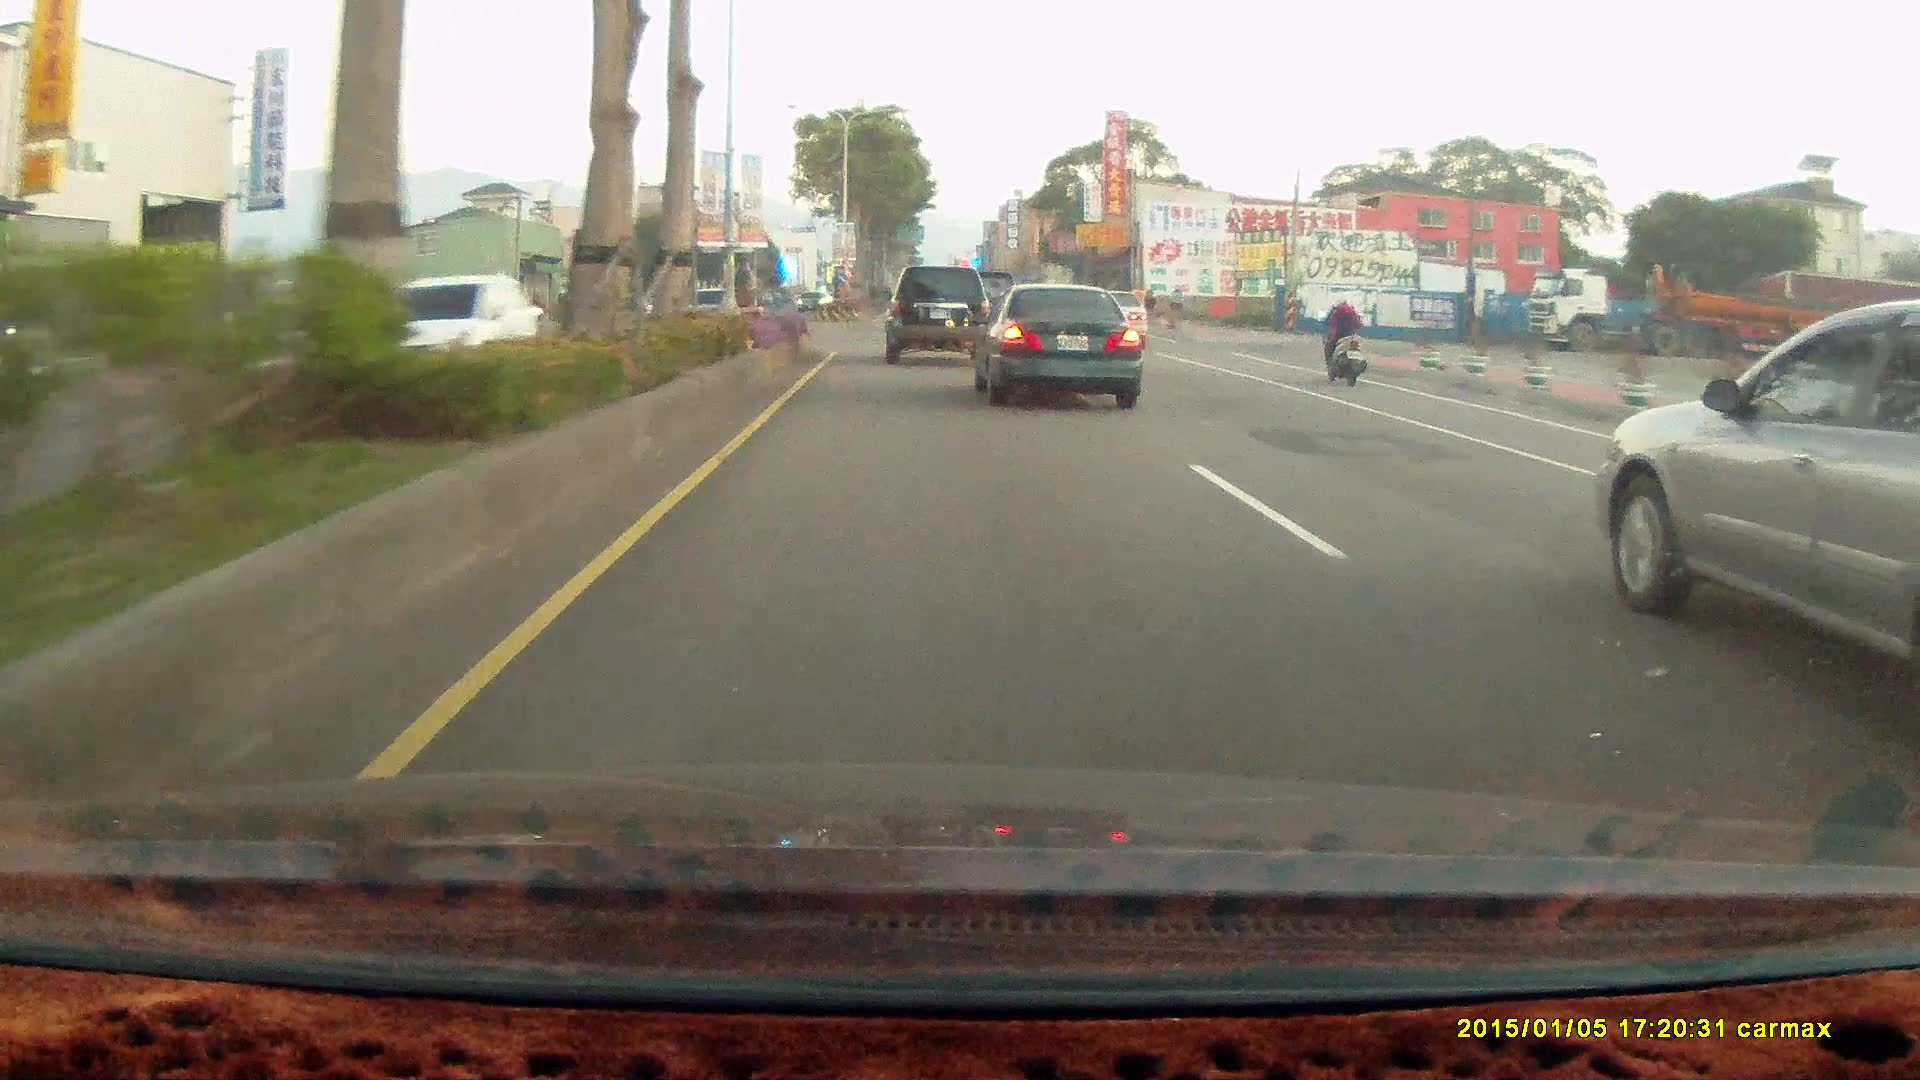rider: (1310, 284, 1378, 393), (1312, 292, 1368, 388)
vehicle: (1606, 297, 1920, 728), (1522, 265, 1897, 364), (966, 286, 1140, 413), (363, 271, 543, 388), (975, 290, 1143, 412), (886, 268, 995, 370), (883, 264, 990, 365)
